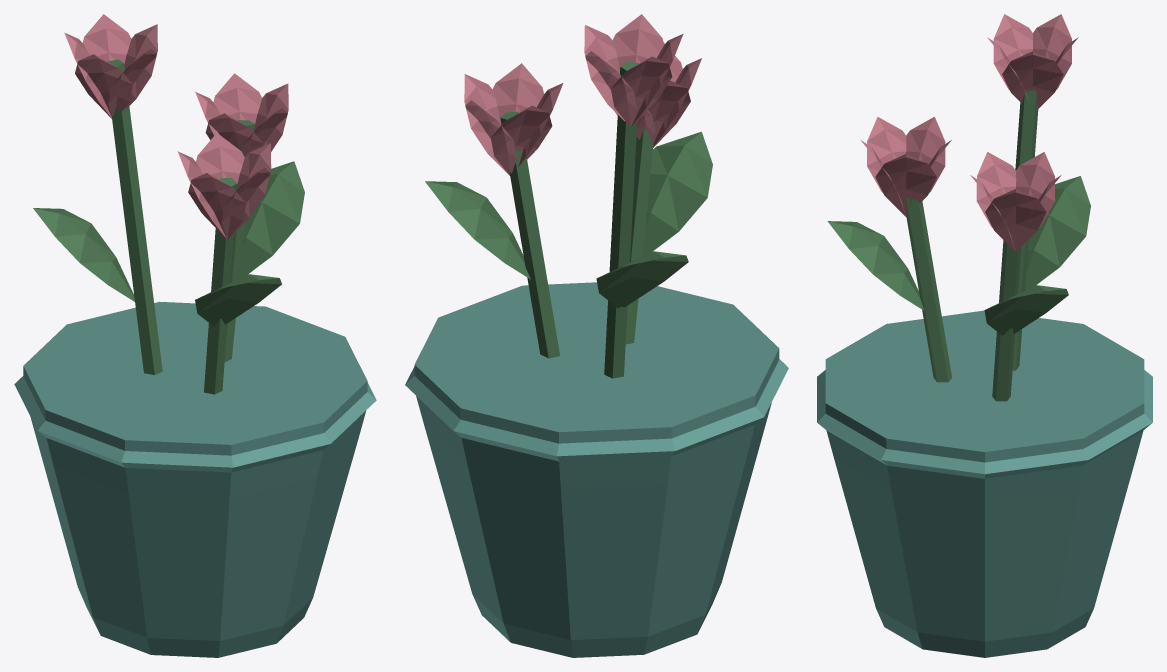
The model's file is flower_pot_b.glb.
3 renders of one model, left to right at view 1: azimuth 30°, elevation 25°; view 2: azimuth 150°, elevation 25°; view 3: azimuth 270°, elevation 25°, orthographic. The views are drawn at different scales.
Parts seen in each view (by area): view 1: geometry; view 2: geometry; view 3: geometry.
Part boxes in pixels (x1,y1,x2,y2): geometry: (14, 14, 376, 657); geometry: (405, 14, 788, 657); geometry: (817, 14, 1152, 657).
Bounding box in the file's own units: 0.4 × 0.695 × 0.3804.
